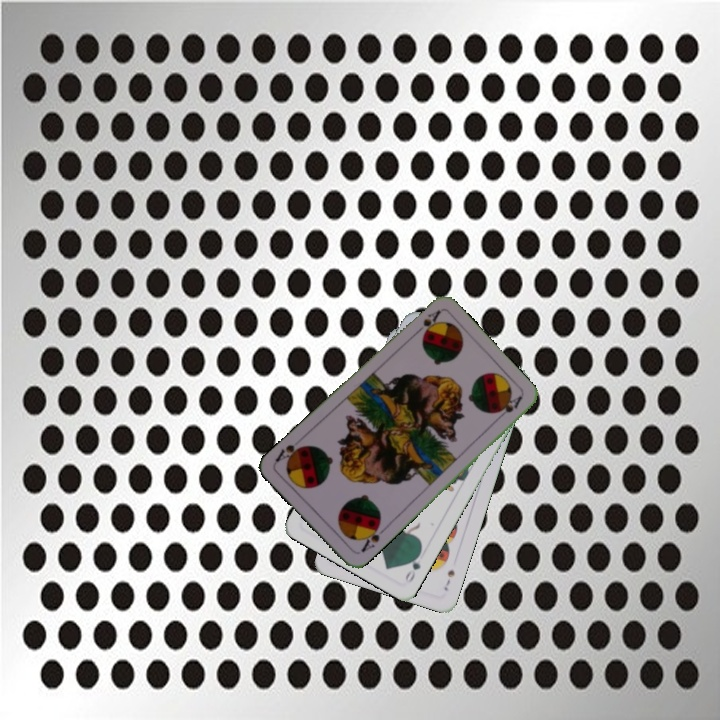GO: (401, 547, 424, 586)
S7: (440, 566, 457, 593)
SA: (356, 519, 388, 555), (410, 306, 443, 339)
